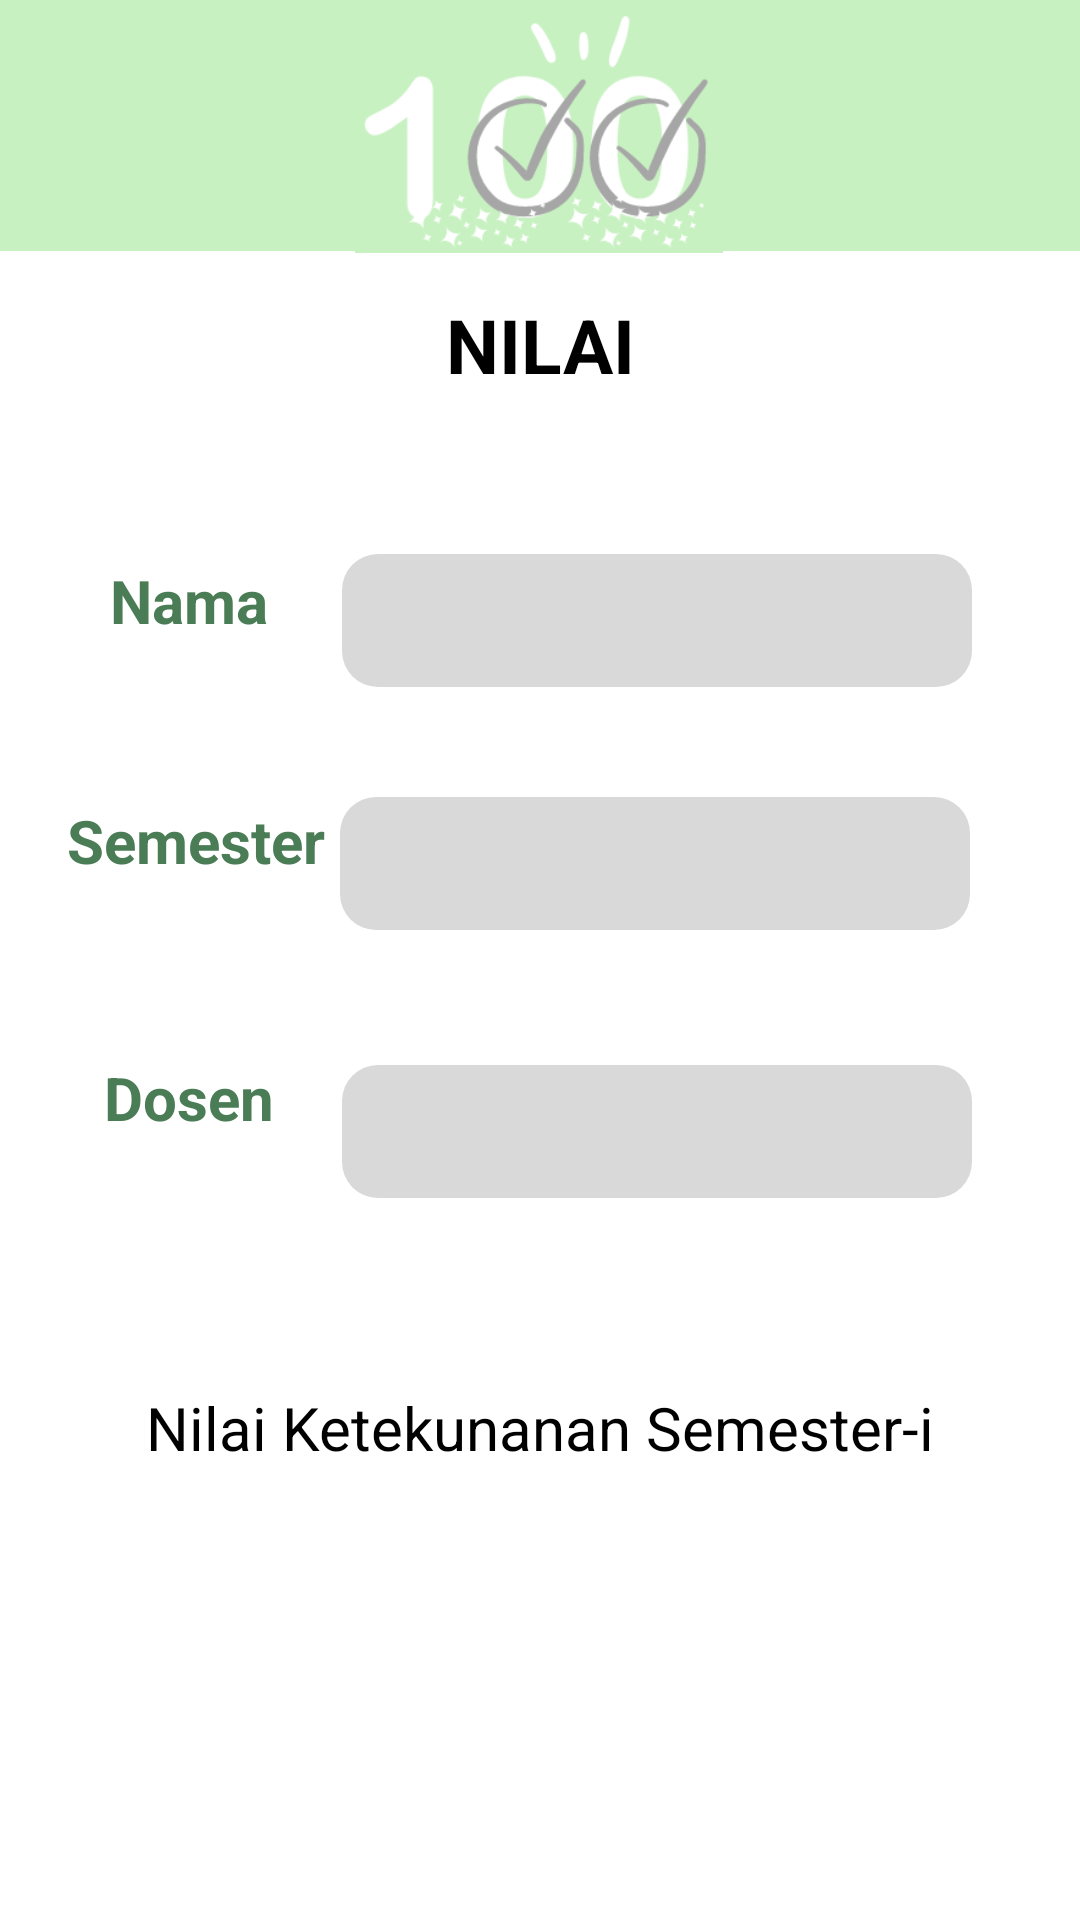

Named icons in this screenshot (1080px×1920px) and their centers, point (x, y):
headerdotask: point (536, 131)
